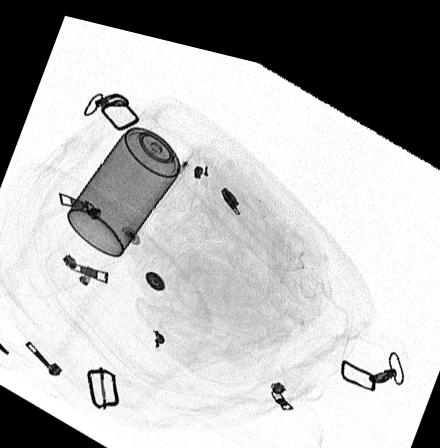Sprayer: (67, 100, 201, 251)
